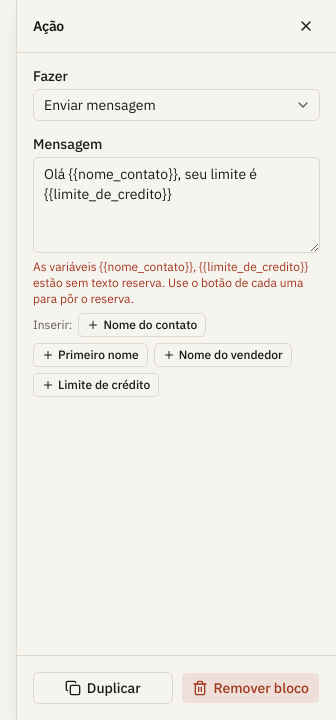
Test: B38-05 — variáveis com texto reserva nas telas › CA-B38-48: should apontar a variável sem reserva e não inserir sem reserva
Expected: the text "As variáveis {{nome_contato}}, {{limite_de_credito}} estão sem texto reserva. Use o botão de cada uma para pôr o reserva" is shown, [33, 259, 308, 306]
Step 1. Click the button "Nome do contato" → (142, 325), box [78, 313, 206, 337]
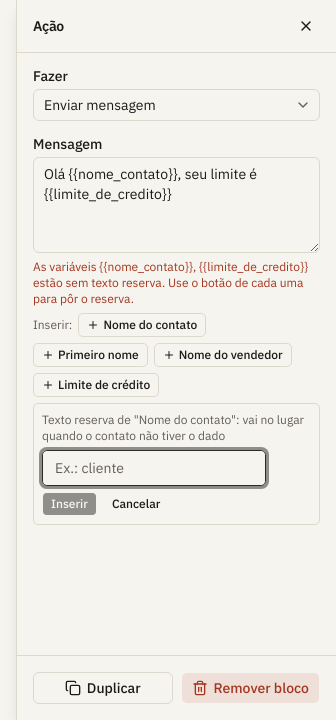
Expected: the button "Inserir" is disabled, [42, 492, 97, 516]
